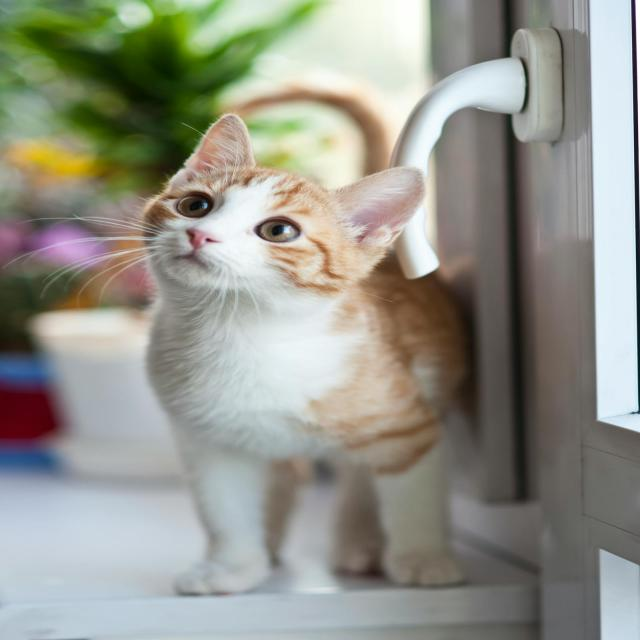Cat: (8, 112, 477, 596)
